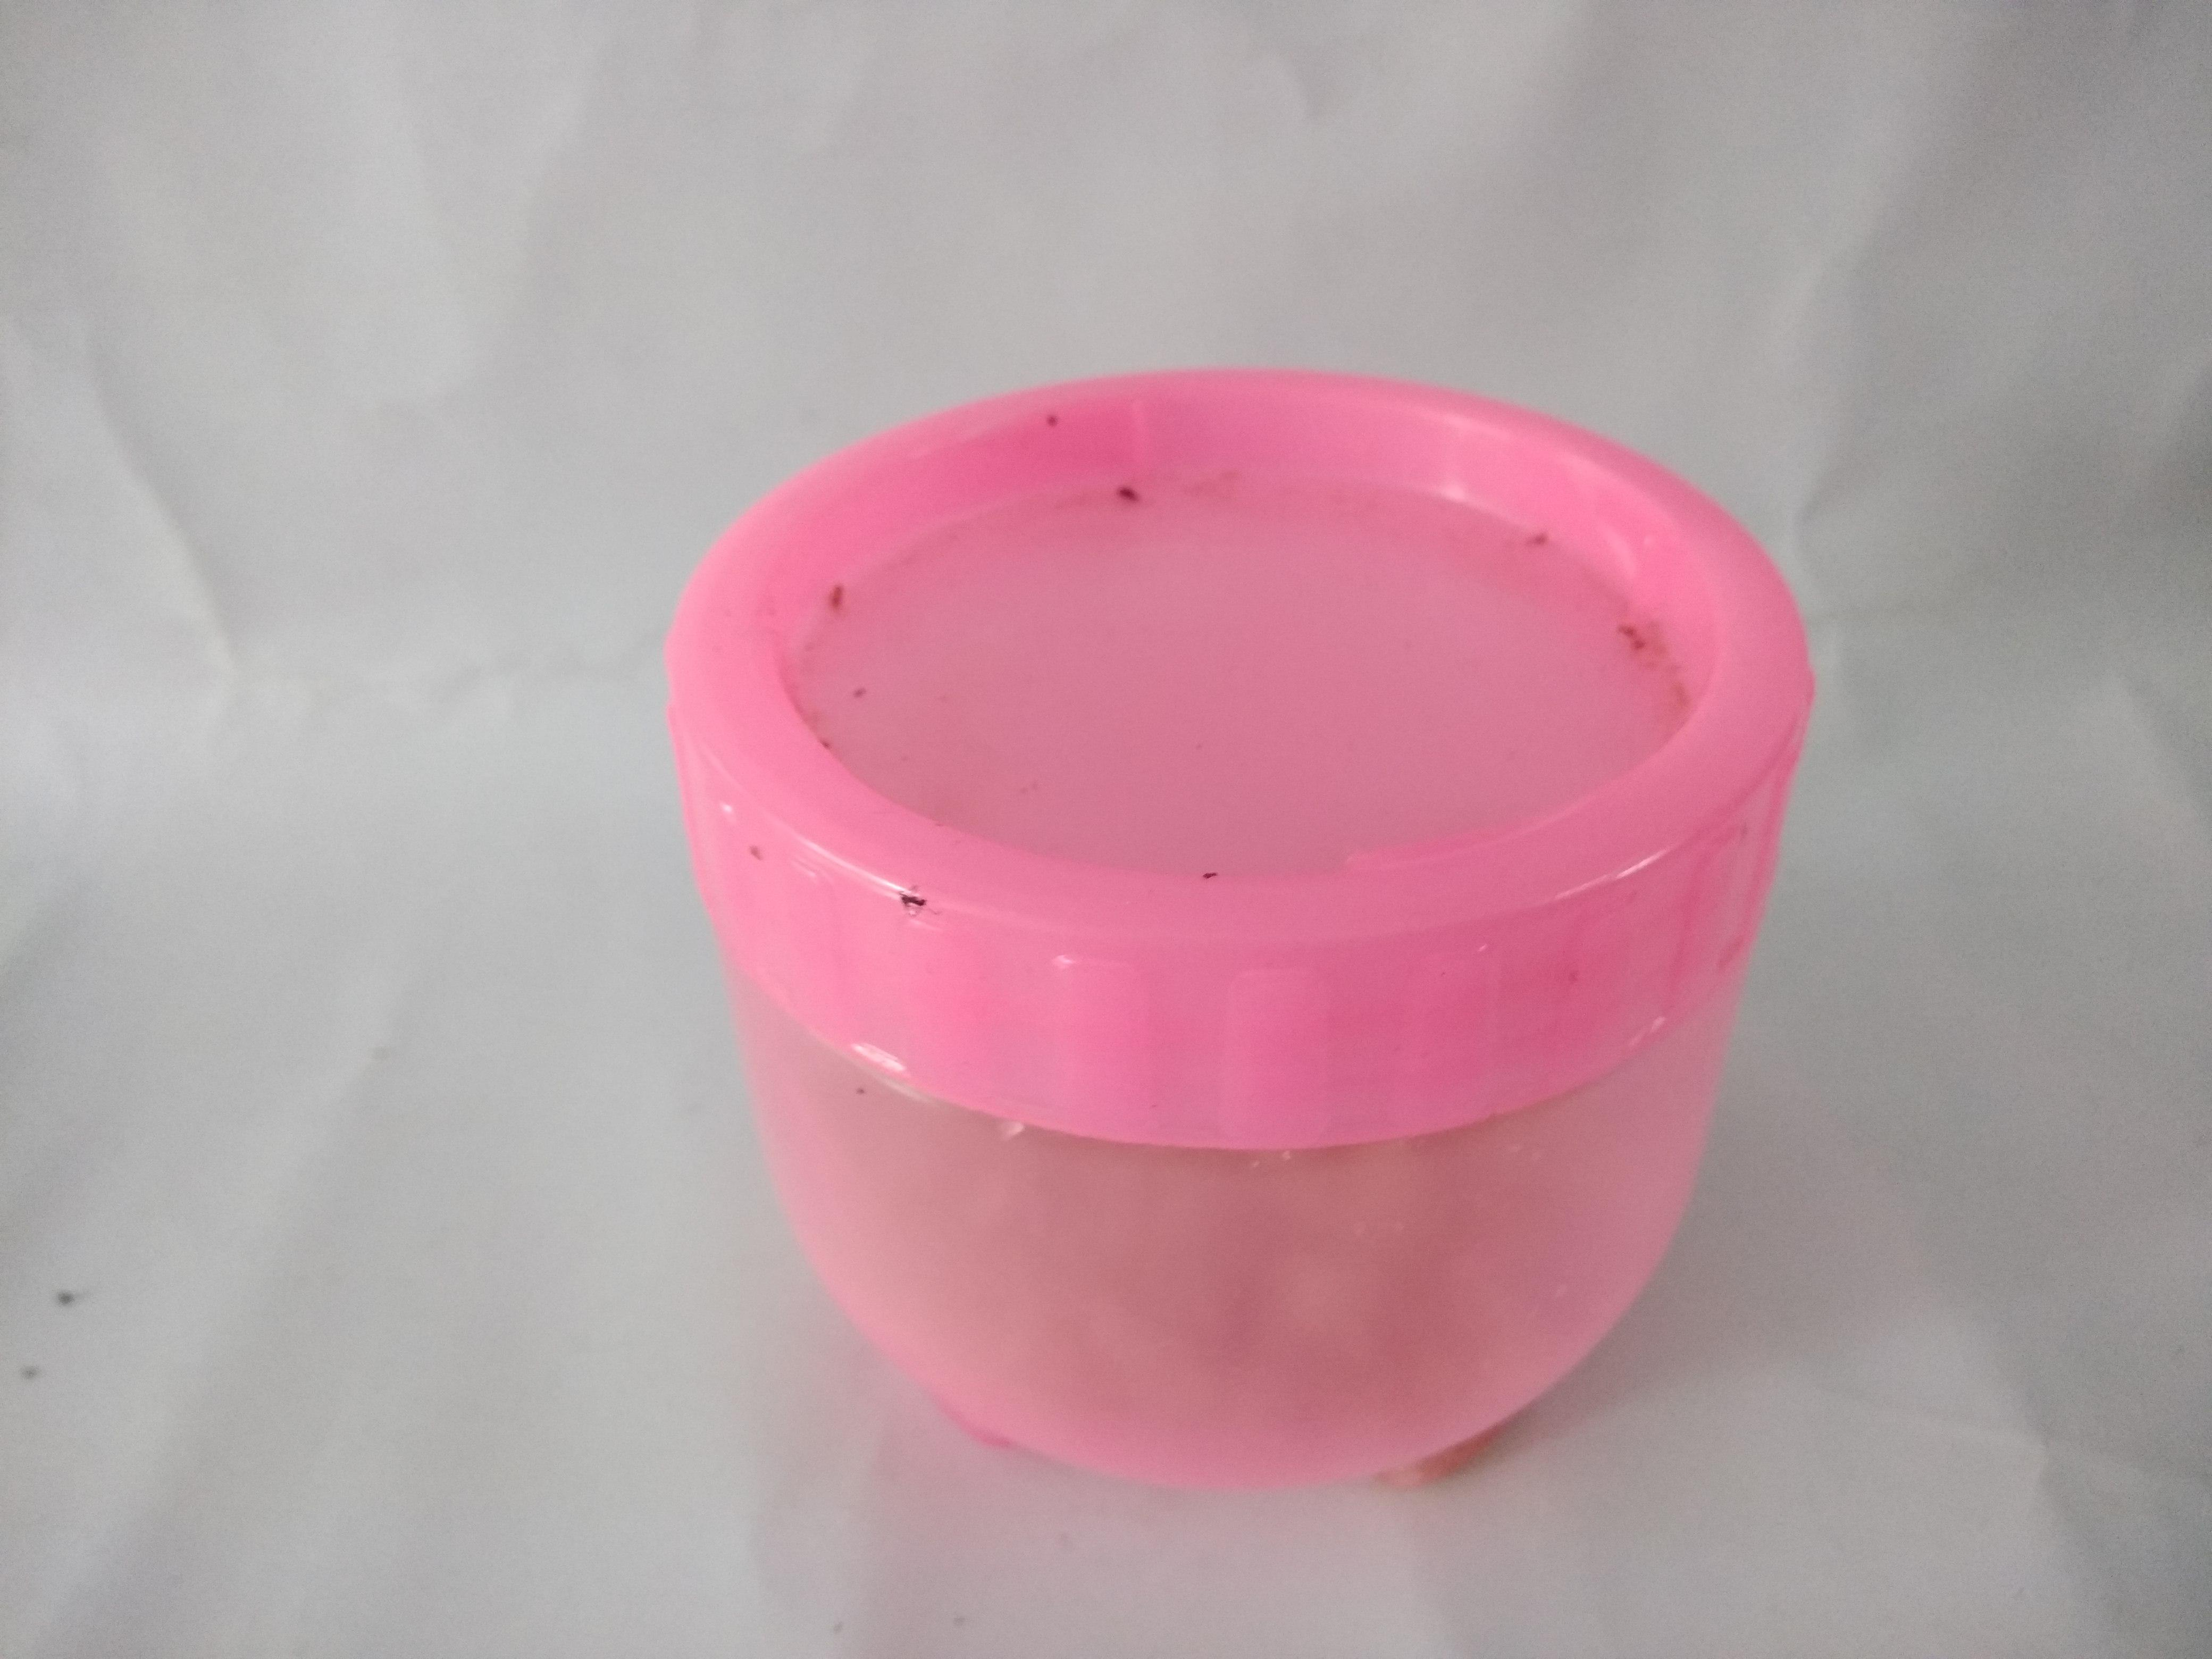PP: (470, 178, 2024, 1659)
